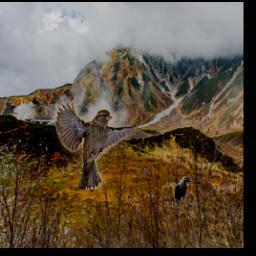Crow: (175, 176, 193, 203)
Sparrow: (55, 101, 143, 191)
